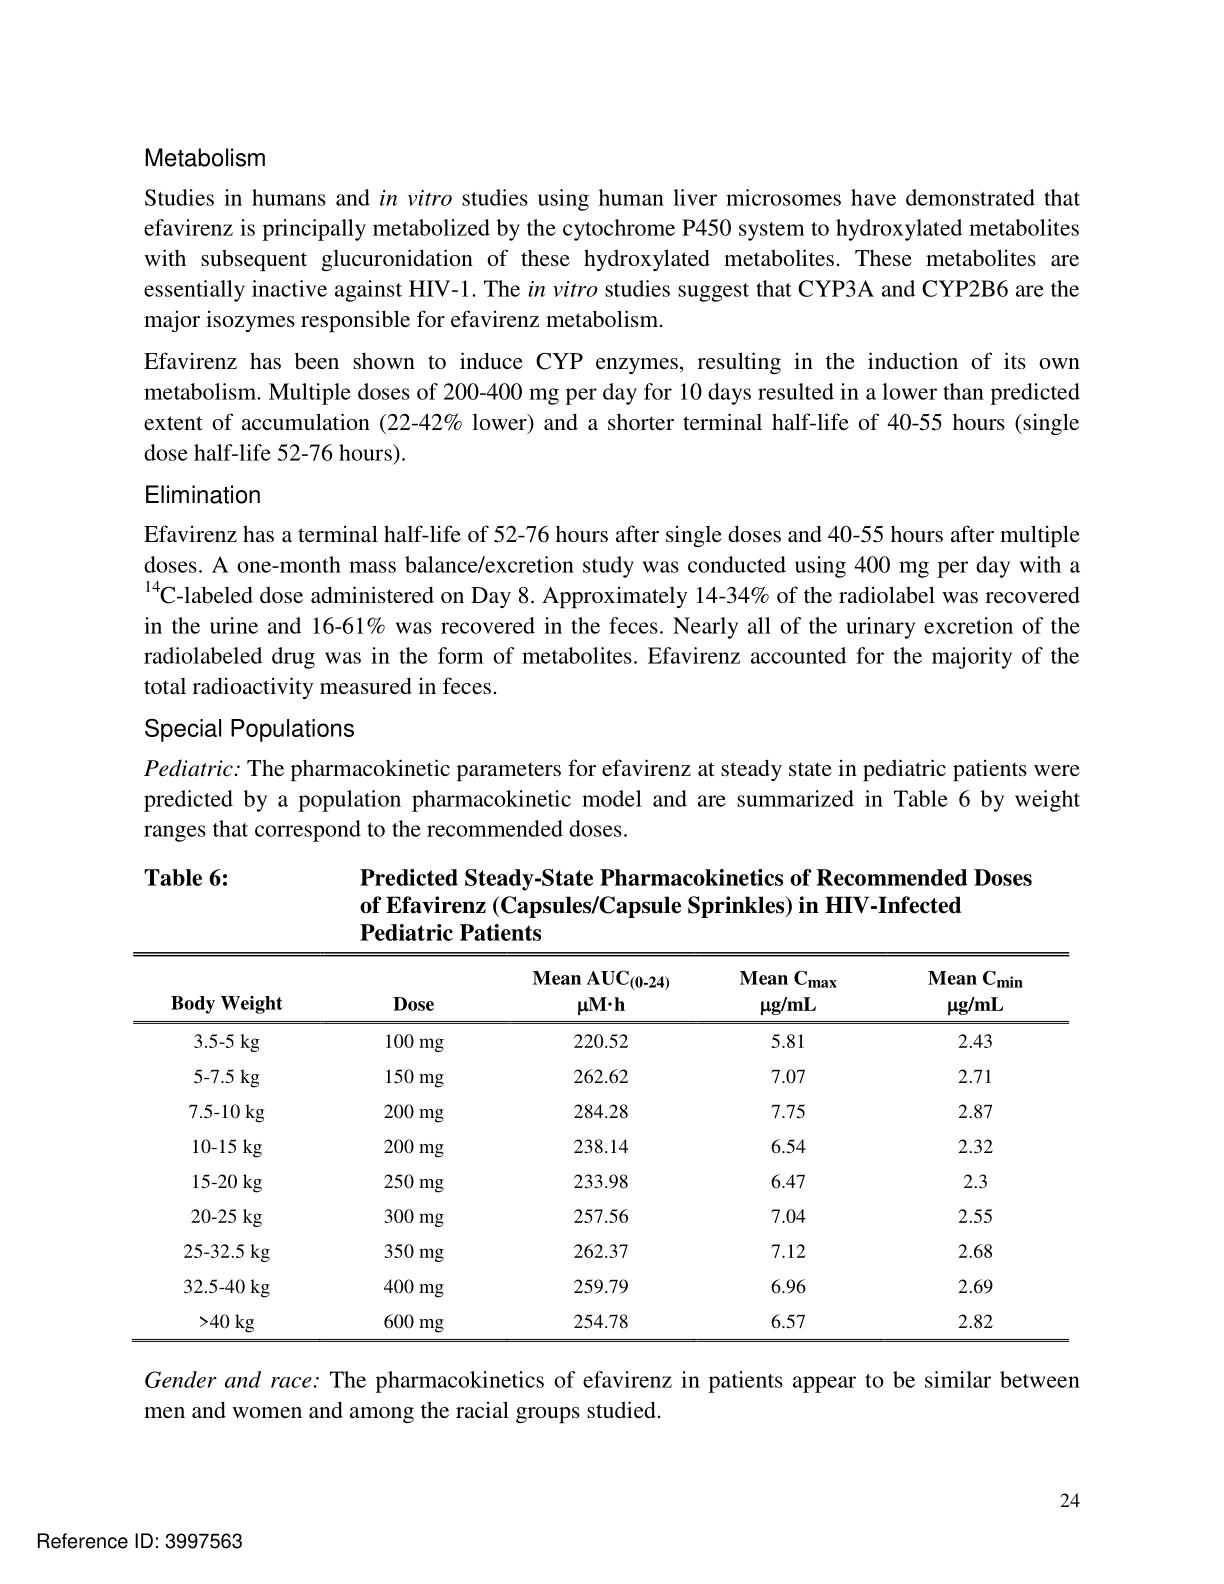partial_lined: (131, 951, 1071, 1344)
